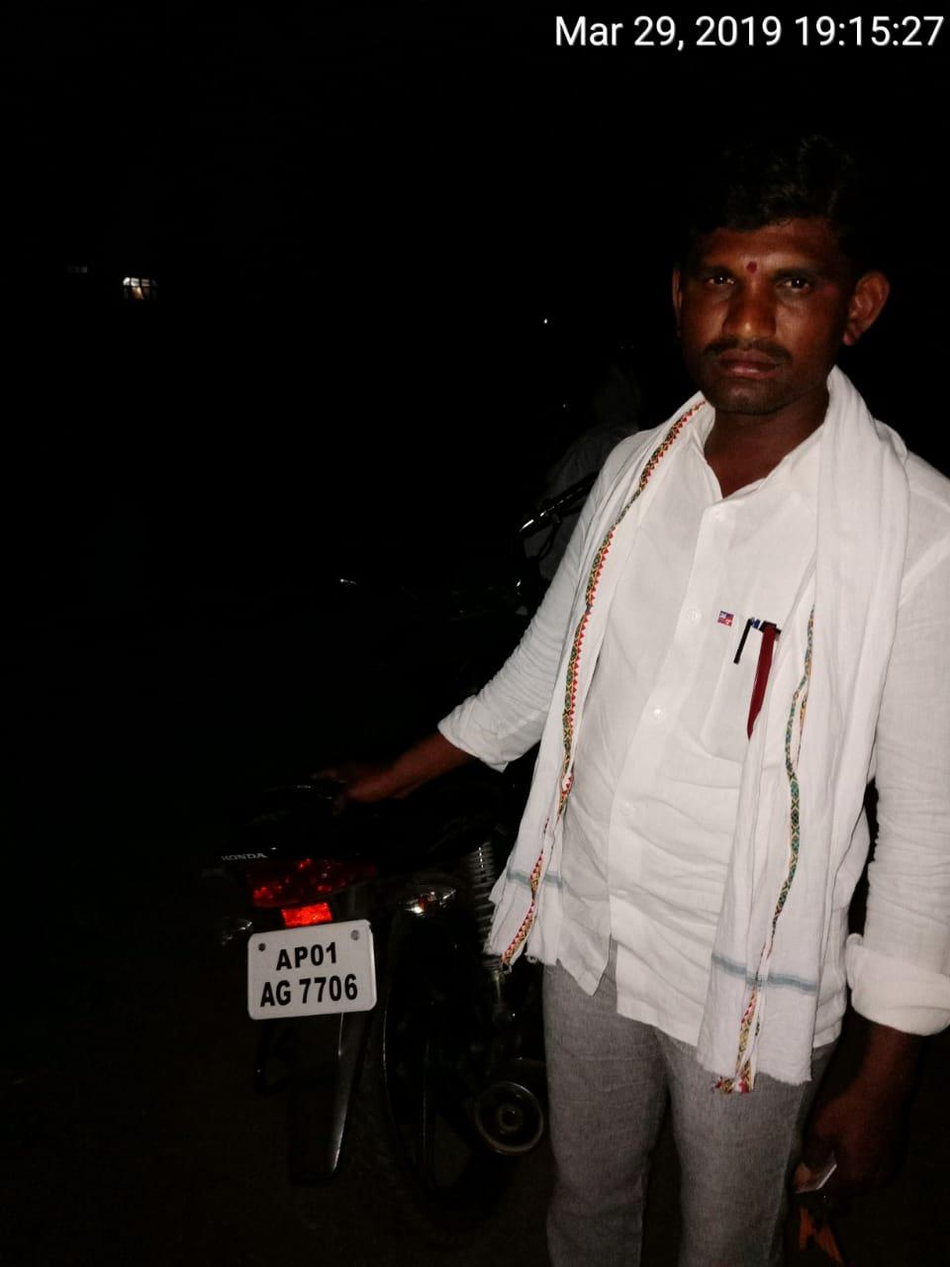plate: (230, 922, 397, 1030)
